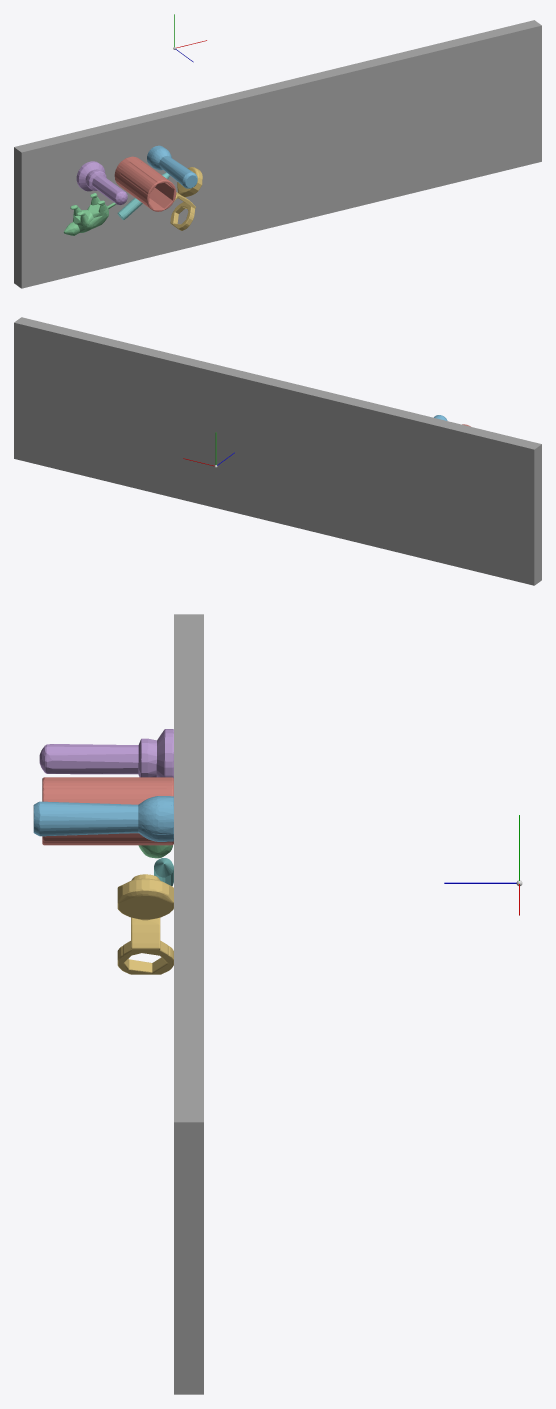
Rendered from portable_scene_calibrated.glb.
3 renders of one model, top to bottom at view 1: azimuth 30°, elevation 25°; view 2: azimuth 150°, elevation 25°; view 3: azimuth 270°, elevation 25°, orthographic. The views are drawn at different scales.
Parts seen in each view (by area): view 1: table, object_007_sem-Cup-d8ea3aa39bcb162798910e50f05b8001, object_023_sem-Candle-1be58678b919b12bc5fe7f65b41f3b19, object_015_sem-Bear-1629215db795111ba649bd1425725662, object_010_sem-Flashlight-5c7bf45b0f847489181be2d6e974dccd, object_022_sem-Camera-1221201ed6aac041745b4b48c30a506e; view 2: table; view 3: table, object_010_sem-Flashlight-5c7bf45b0f847489181be2d6e974dccd, object_007_sem-Cup-d8ea3aa39bcb162798910e50f05b8001, object_023_sem-Candle-1be58678b919b12bc5fe7f65b41f3b19, object_022_sem-Camera-1221201ed6aac041745b4b48c30a506e.
Boxes of the visible parts, box(x1,y1,x2,y2) form: table: box(14, 20, 541, 288); object_007_sem-Cup-d8ea3aa39bcb162798910e50f05b8001: box(114, 156, 176, 211); object_023_sem-Candle-1be58678b919b12bc5fe7f65b41f3b19: box(76, 161, 127, 205); object_015_sem-Bear-1629215db795111ba649bd1425725662: box(63, 193, 116, 235); object_010_sem-Flashlight-5c7bf45b0f847489181be2d6e974dccd: box(147, 145, 197, 188); object_022_sem-Camera-1221201ed6aac041745b4b48c30a506e: box(170, 167, 202, 230); table: box(14, 317, 541, 585); table: box(174, 614, 203, 1394); object_010_sem-Flashlight-5c7bf45b0f847489181be2d6e974dccd: box(33, 796, 173, 841); object_007_sem-Cup-d8ea3aa39bcb162798910e50f05b8001: box(42, 777, 173, 845); object_023_sem-Candle-1be58678b919b12bc5fe7f65b41f3b19: box(39, 729, 173, 778); object_022_sem-Camera-1221201ed6aac041745b4b48c30a506e: box(117, 874, 173, 974).
Size of what is drawn, in the model's own units: 1.6 by 0.4484 by 0.6509.
